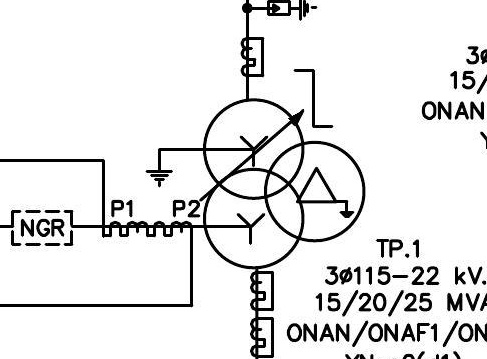11522_tx_ynyn0d1: (202, 97, 367, 271)
